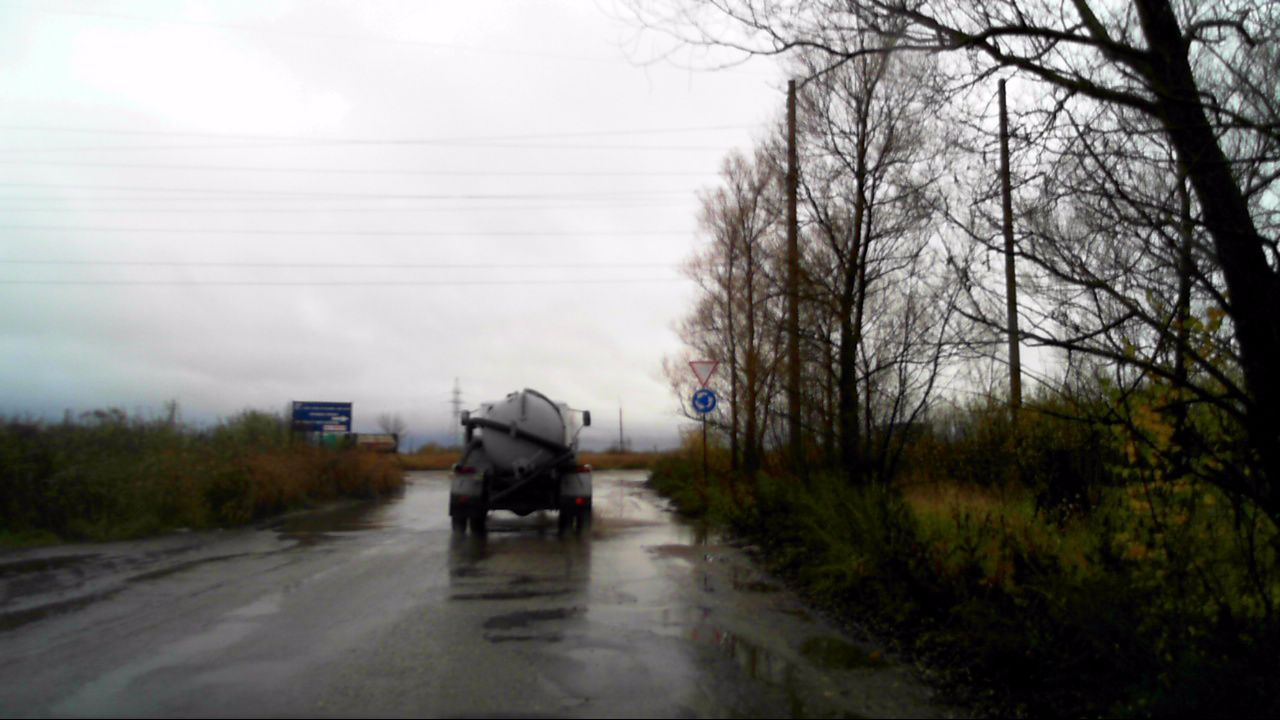Round-About: (691, 388, 716, 414)
